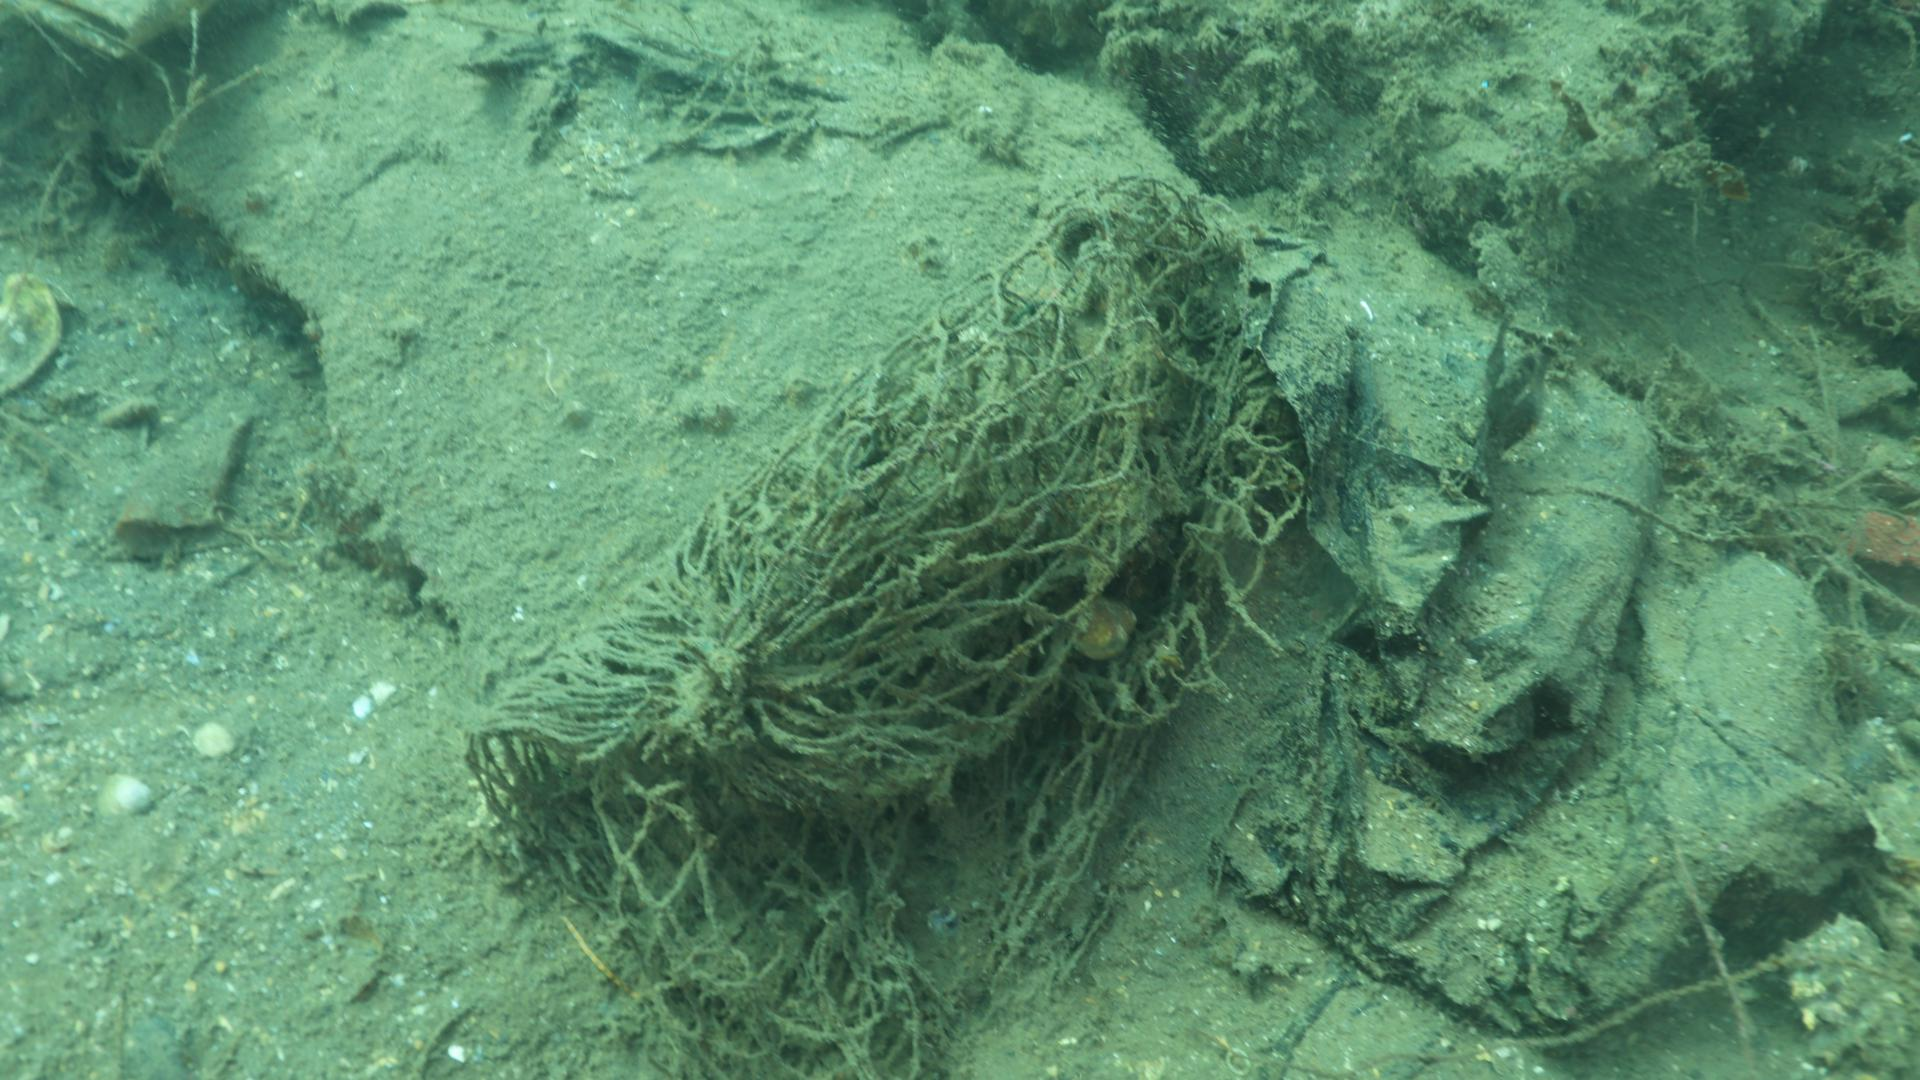fish net: (465, 177, 1153, 935)
